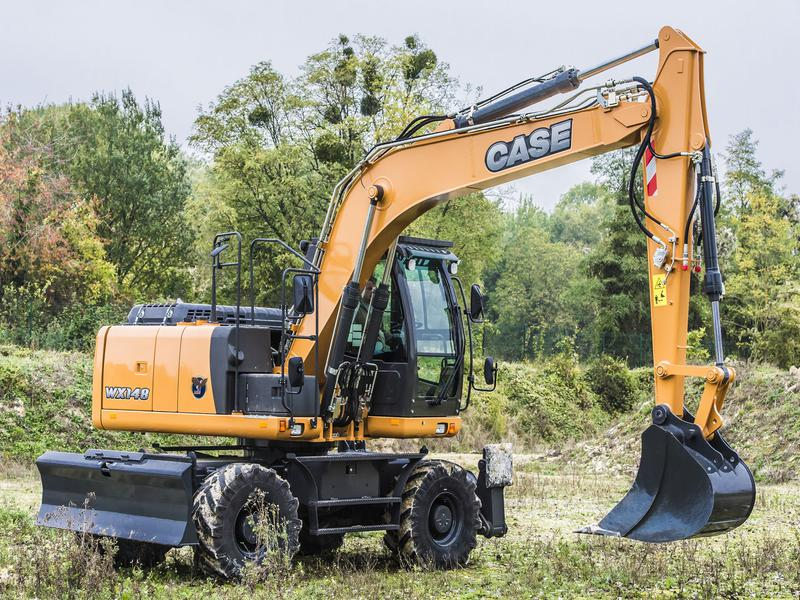shovel: (33, 17, 760, 572)
